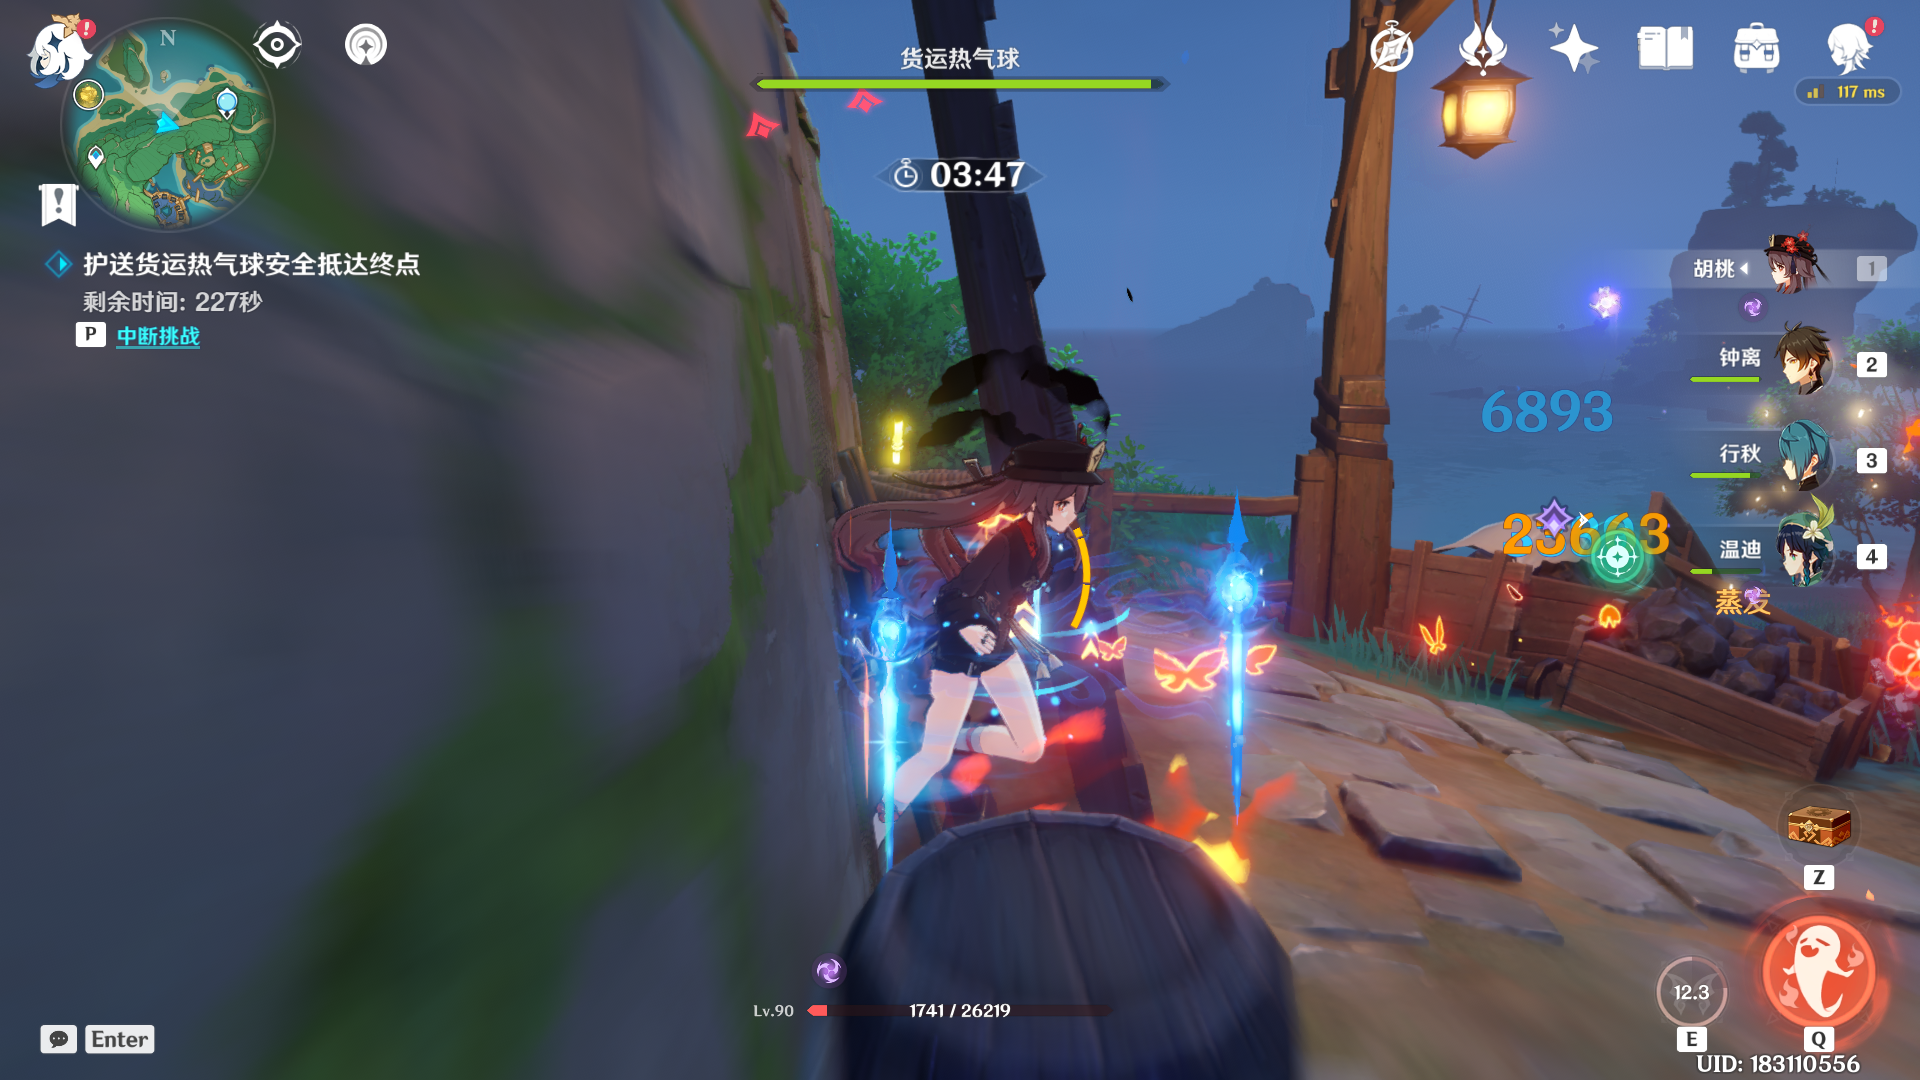character: (822, 363, 1129, 845)
